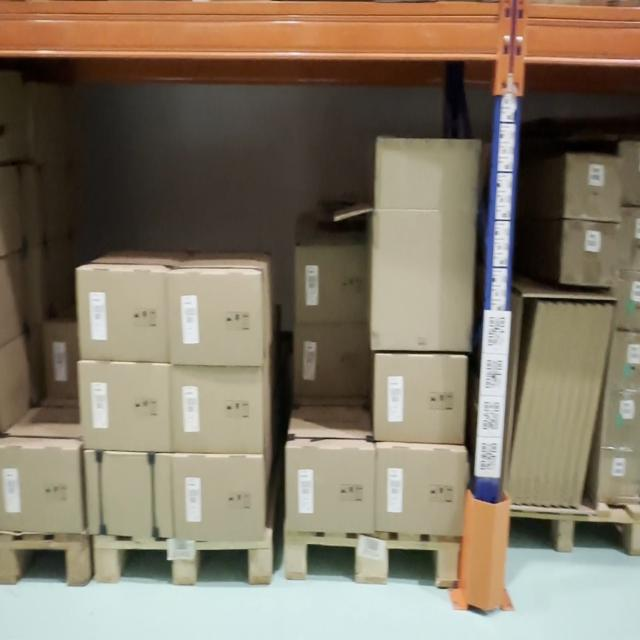box: (371, 138, 481, 352), (559, 304, 605, 507), (542, 304, 587, 508), (569, 305, 614, 508), (551, 304, 596, 507), (514, 302, 557, 505), (523, 303, 566, 505), (534, 304, 576, 506), (78, 270, 170, 362), (375, 447, 467, 537), (375, 354, 467, 444), (172, 365, 262, 455), (172, 272, 260, 364), (84, 451, 173, 540), (508, 303, 547, 504), (286, 448, 376, 533), (0, 445, 82, 533), (85, 365, 170, 448), (176, 458, 263, 538), (296, 243, 367, 322), (296, 326, 369, 396), (564, 155, 624, 220), (562, 221, 622, 286), (597, 448, 640, 506), (602, 388, 640, 450), (610, 329, 640, 392), (618, 139, 640, 204), (616, 271, 640, 330), (620, 207, 640, 273)
